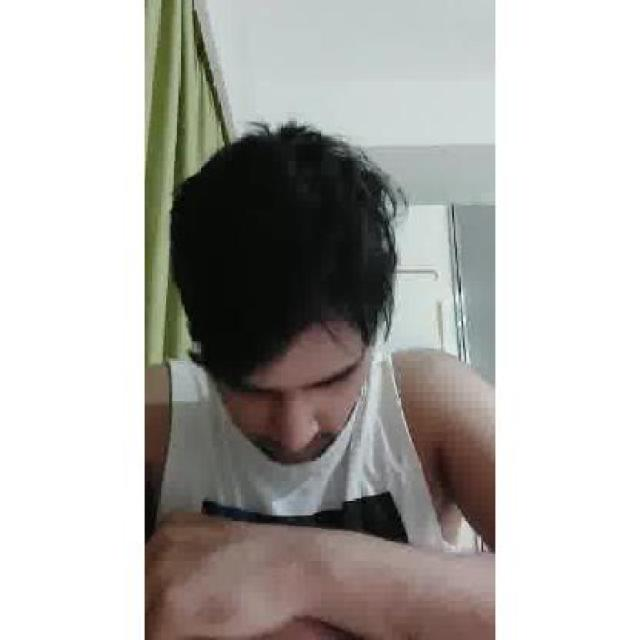inattentif: (176, 122, 372, 466)
